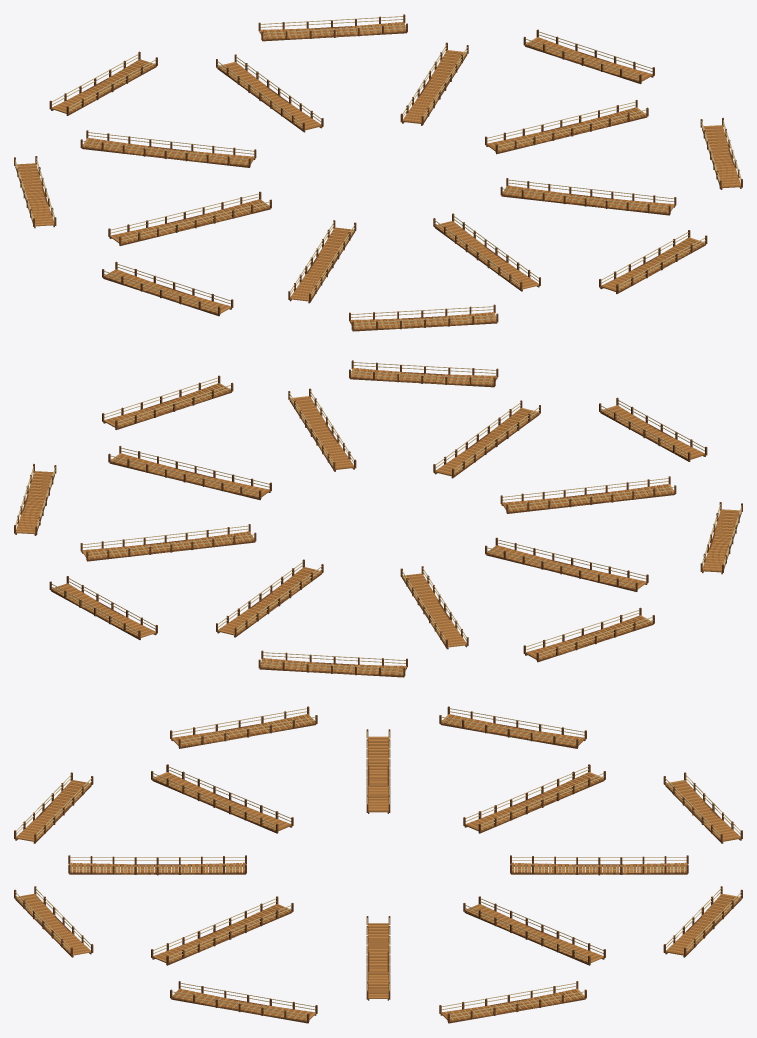
The model's file is Bridges.fbx.
The picture shows the model from 3 angles, top to bottom: view 1: azimuth 30°, elevation 25°; view 2: azimuth 150°, elevation 25°; view 3: azimuth 270°, elevation 25°; orthographic projection.
Visible parts, largest first — view 1: Bridge_Hub_4_Mesh, Bridge_Hub_8_Mesh, Bridge_Hub_5_Mesh, Bridge_Hub_1_Mesh, Bridge_Hub_7_Mesh, Bridge_Hub_3_Mesh, Bridge_Ring_6_7_Mesh, Bridge_Ring_2_3_Mesh, Bridge_Ring_1_2_Mesh, Bridge_Ring_5_6_Mesh, Bridge_Hub_6_Mesh, Bridge_Hub_2_Mesh (+4 smaller); view 2: Bridge_Hub_6_Mesh, Bridge_Hub_2_Mesh, Bridge_Hub_5_Mesh, Bridge_Hub_1_Mesh, Bridge_Hub_3_Mesh, Bridge_Hub_7_Mesh, Bridge_Ring_3_4_Mesh, Bridge_Ring_7_8_Mesh, Bridge_Ring_8_1_Mesh, Bridge_Ring_4_5_Mesh, Bridge_Hub_4_Mesh, Bridge_Hub_8_Mesh (+4 smaller); view 3: Bridge_Hub_3_Mesh, Bridge_Hub_7_Mesh, Bridge_Hub_2_Mesh, Bridge_Hub_8_Mesh, Bridge_Hub_4_Mesh, Bridge_Hub_6_Mesh, Bridge_Ring_4_5_Mesh, Bridge_Ring_5_6_Mesh, Bridge_Ring_1_2_Mesh, Bridge_Ring_8_1_Mesh, Bridge_Hub_5_Mesh, Bridge_Hub_1_Mesh (+4 smaller).
Boxes of the visible parts, x1,y1,x2,y2 form: Bridge_Hub_4_Mesh: (80, 130, 256, 167); Bridge_Hub_8_Mesh: (500, 178, 676, 215); Bridge_Hub_5_Mesh: (108, 191, 271, 245); Bridge_Hub_1_Mesh: (485, 100, 648, 154); Bridge_Hub_7_Mesh: (433, 213, 540, 291); Bridge_Hub_3_Mesh: (216, 54, 323, 132); Bridge_Ring_6_7_Mesh: (349, 304, 498, 331); Bridge_Ring_2_3_Mesh: (258, 14, 407, 41); Bridge_Ring_1_2_Mesh: (523, 29, 654, 83); Bridge_Ring_5_6_Mesh: (102, 261, 233, 316); Bridge_Hub_6_Mesh: (288, 220, 356, 303); Bridge_Hub_2_Mesh: (400, 42, 468, 125); Bridge_Hub_6_Mesh: (500, 476, 676, 513); Bridge_Hub_2_Mesh: (80, 524, 256, 561); Bridge_Hub_5_Mesh: (485, 537, 648, 591); Bridge_Hub_1_Mesh: (108, 446, 271, 500); Bridge_Hub_3_Mesh: (216, 559, 323, 637); Bridge_Hub_7_Mesh: (433, 400, 540, 478); Bridge_Ring_3_4_Mesh: (258, 650, 407, 677); Bridge_Ring_7_8_Mesh: (349, 360, 498, 387); Bridge_Ring_8_1_Mesh: (102, 375, 233, 429); Bridge_Ring_4_5_Mesh: (523, 607, 654, 662); Bridge_Hub_4_Mesh: (400, 566, 468, 649); Bridge_Hub_8_Mesh: (288, 388, 356, 471); Bridge_Hub_3_Mesh: (510, 855, 688, 875); Bridge_Hub_7_Mesh: (68, 855, 246, 875); Bridge_Hub_2_Mesh: (463, 896, 605, 965); Bridge_Hub_8_Mesh: (151, 896, 293, 965); Bridge_Hub_4_Mesh: (463, 764, 605, 833); Bridge_Hub_6_Mesh: (151, 764, 293, 833); Bridge_Ring_4_5_Mesh: (439, 706, 586, 748); Bridge_Ring_5_6_Mesh: (170, 706, 317, 748); Bridge_Ring_1_2_Mesh: (439, 981, 586, 1023); Bridge_Ring_8_1_Mesh: (170, 981, 317, 1023); Bridge_Hub_5_Mesh: (366, 729, 390, 813); Bridge_Hub_1_Mesh: (366, 916, 390, 1000).
Size of the model in its own units: 479 by 7.2 by 479.
